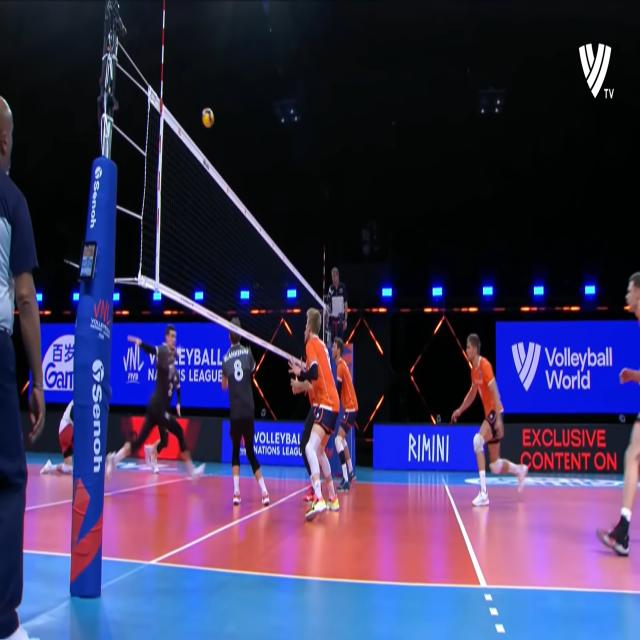player: (114, 318, 202, 483), (454, 334, 527, 509), (288, 300, 342, 524), (220, 315, 272, 515), (331, 332, 366, 496)
